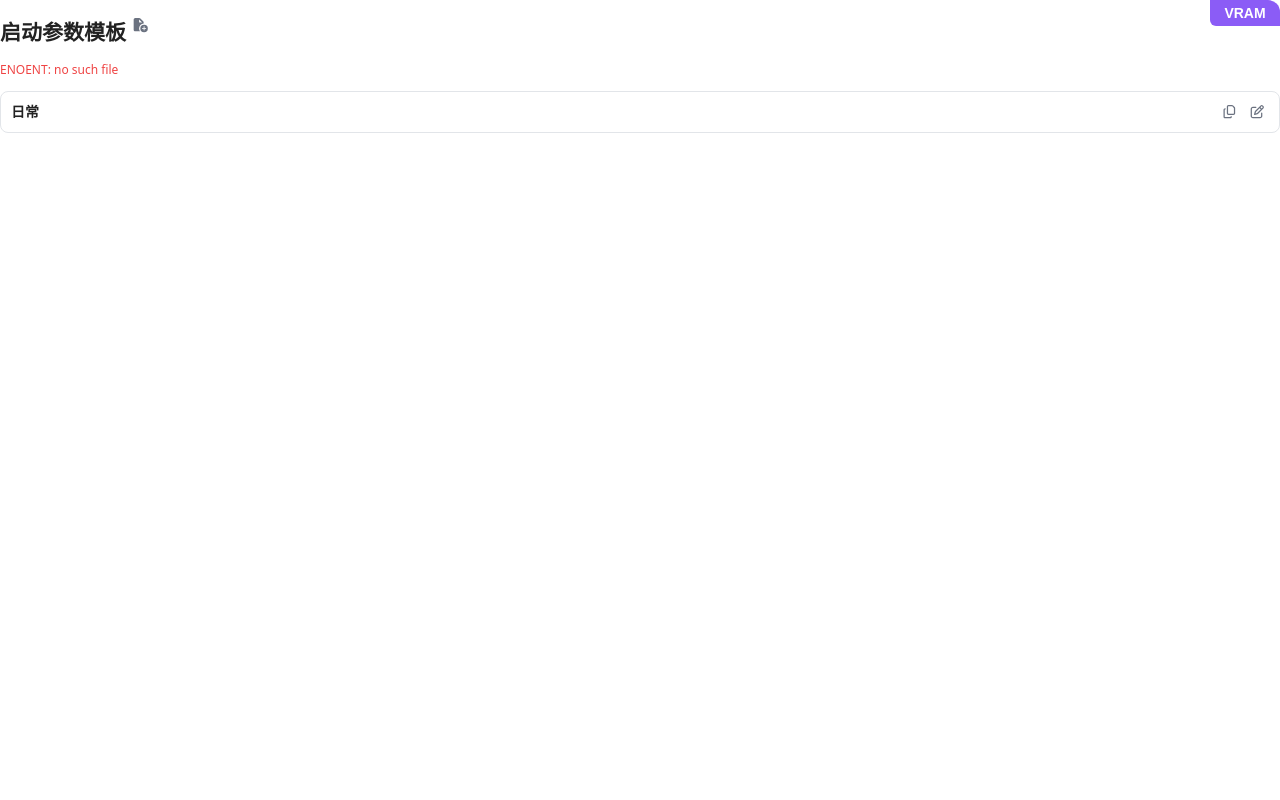
TemplateModule › top_button_is_plus_icon_with_tooltip_opens_new_modal
Check: the text "新建模板" is not shown
Click the button named "新建模板" at (140, 24), box [128,12,152,36]
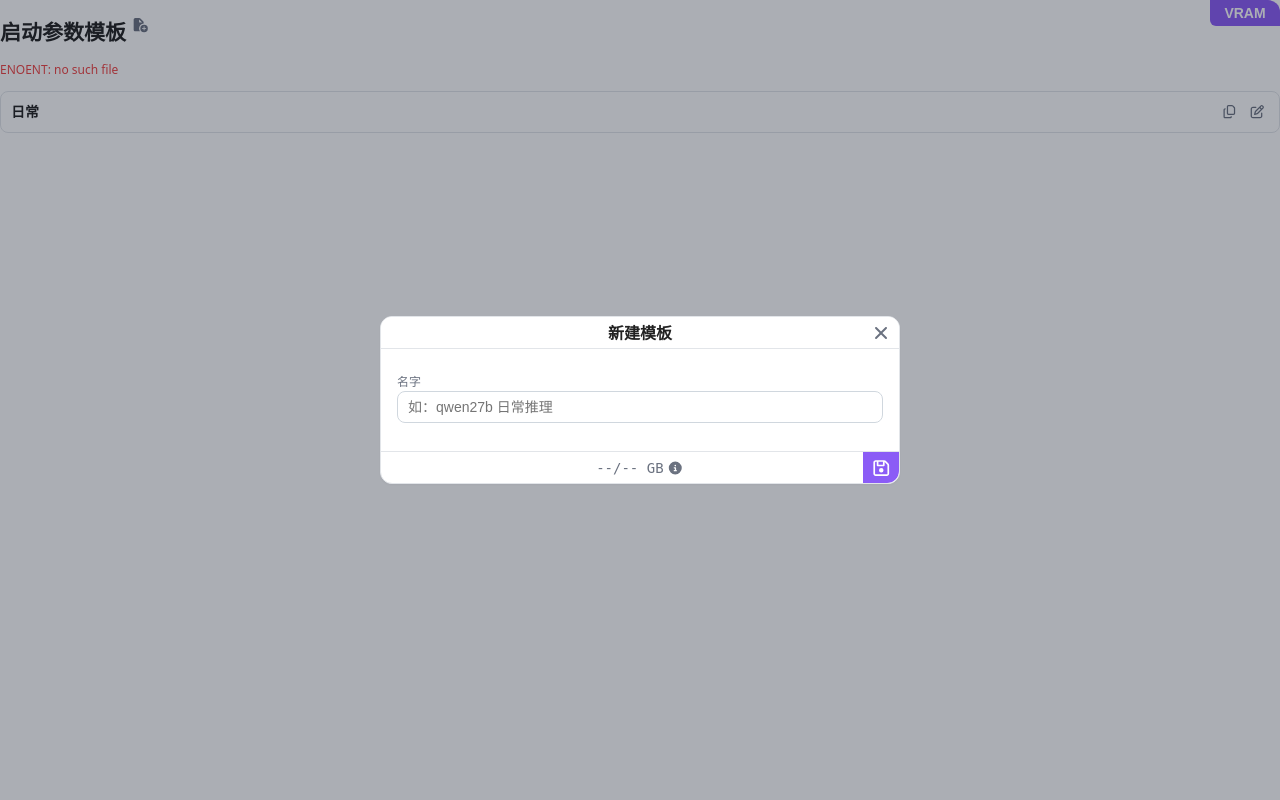
Check: the text with class "modal-title" reads "新建模板", box [608,322,672,344]
